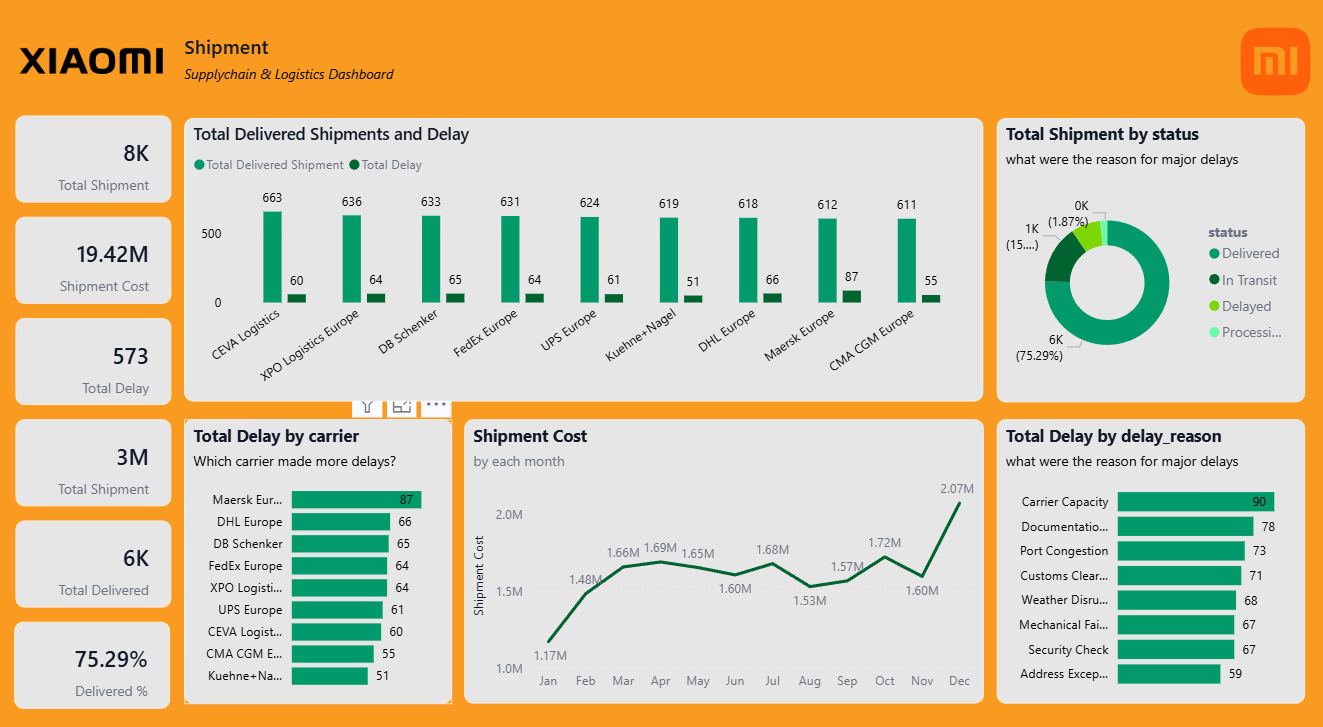

The dashboard page shown, as its layout file describes it:
{"tool":"powerbi","page":{"name":"Shipment","canvas":[1280,720],"ordinal":4},"visuals":[{"type":"shape","title":"Shipment","box":[179.8,38.9,228.4,65.6],"z":0},{"type":"cardVisual","fields":{"Data":["Measures_Table.Shipment Cost"]},"box":[17.4,216.1,150,84],"z":1000},{"type":"cardVisual","fields":{"Data":["Measures_Table.Total Delay"]},"box":[17.4,313.8,150,84],"z":2000},{"type":"cardVisual","fields":{"Data":["Measures_Table.Total Shipment Quantity"]},"box":[17.4,411.5,150,84],"z":3000},{"type":"cardVisual","fields":{"Data":["Measures_Table.Total Delivered Shipment"]},"box":[17.4,509.2,150,84],"z":4000},{"type":"cardVisual","fields":{"Data":["Measures_Table.Total Shipment"]},"box":[16.4,118.5,150,84],"z":5000},{"type":"cardVisual","fields":{"Data":["Measures_Table.Delivered %"]},"box":[16.2,606.8,150,84],"z":6000},{"type":"barChart","fields":{"Y":["Measures_Table.Total Delay"],"Category":["fact_shipment.carrier"]},"box":[179.8,411.8,258.7,274.5],"z":7000},{"type":"clusteredColumnChart","title":"Total Delivered Shipments and Delay","fields":{"Y":["Measures_Table.Total Delivered Shipment","Measures_Table.Total Delay"],"Category":["fact_shipment.carrier"]},"box":[179.8,120.3,771.3,273.3],"z":8000},{"type":"lineChart","title":"Shipment Cost","fields":{"Y":["Measures_Table.Shipment Cost"],"Category":["dim_date.Month Short"]},"box":[449.4,411.8,501.7,274.5],"z":9000},{"type":"barChart","fields":{"Y":["Measures_Table.Total Delay"],"Category":["fact_shipment.delay_reason"]},"box":[964.4,411.8,297.6,274.5],"z":10000},{"type":"donutChart","fields":{"Category":["fact_shipment.status"],"Y":["Measures_Table.Total Shipment"]},"box":[964.4,120.3,297.6,274.5],"z":11000},{"type":"image","box":[1185.5,14.6,94.7,103.2],"z":12000},{"type":"image","box":[8.5,26.7,165.2,77.7],"z":13000}]}

Visuals, with their boxes in screenshot pixels (x1, y1, x2, y2), scaled from the page's 1280x720 canvas onto the 1323x727 screenshot:
"Shipment" shape: <bbox>186, 39, 422, 106</bbox>
cardVisual - Measures_Table.Shipment Cost: <bbox>18, 218, 173, 303</bbox>
cardVisual - Measures_Table.Total Delay: <bbox>18, 317, 173, 402</bbox>
cardVisual - Measures_Table.Total Shipment Quantity: <bbox>18, 416, 173, 500</bbox>
cardVisual - Measures_Table.Total Delivered Shipment: <bbox>18, 514, 173, 599</bbox>
cardVisual - Measures_Table.Total Shipment: <bbox>17, 120, 172, 204</bbox>
cardVisual - Measures_Table.Delivered %: <bbox>17, 613, 172, 698</bbox>
barChart - Measures_Table.Total Delay x fact_shipment.carrier: <bbox>186, 416, 453, 693</bbox>
"Total Delivered Shipments and Delay" clusteredColumnChart: <bbox>186, 121, 983, 397</bbox>
"Shipment Cost" lineChart: <bbox>464, 416, 983, 693</bbox>
barChart - Measures_Table.Total Delay x fact_shipment.delay_reason: <bbox>997, 416, 1304, 693</bbox>
donutChart - fact_shipment.status x Measures_Table.Total Shipment: <bbox>997, 121, 1304, 399</bbox>
image: <bbox>1225, 15, 1322, 119</bbox>
image: <bbox>9, 27, 180, 105</bbox>
